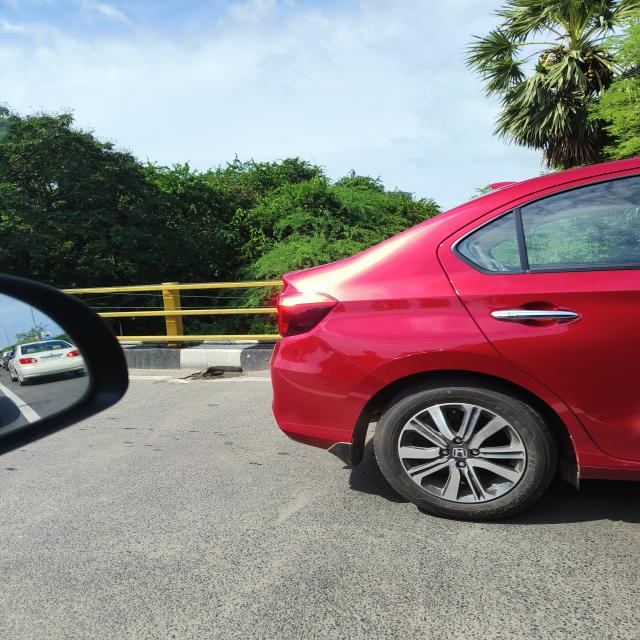scratch: (375, 343, 475, 368), (577, 450, 605, 457), (344, 361, 350, 363), (366, 350, 370, 352), (349, 358, 352, 360)
